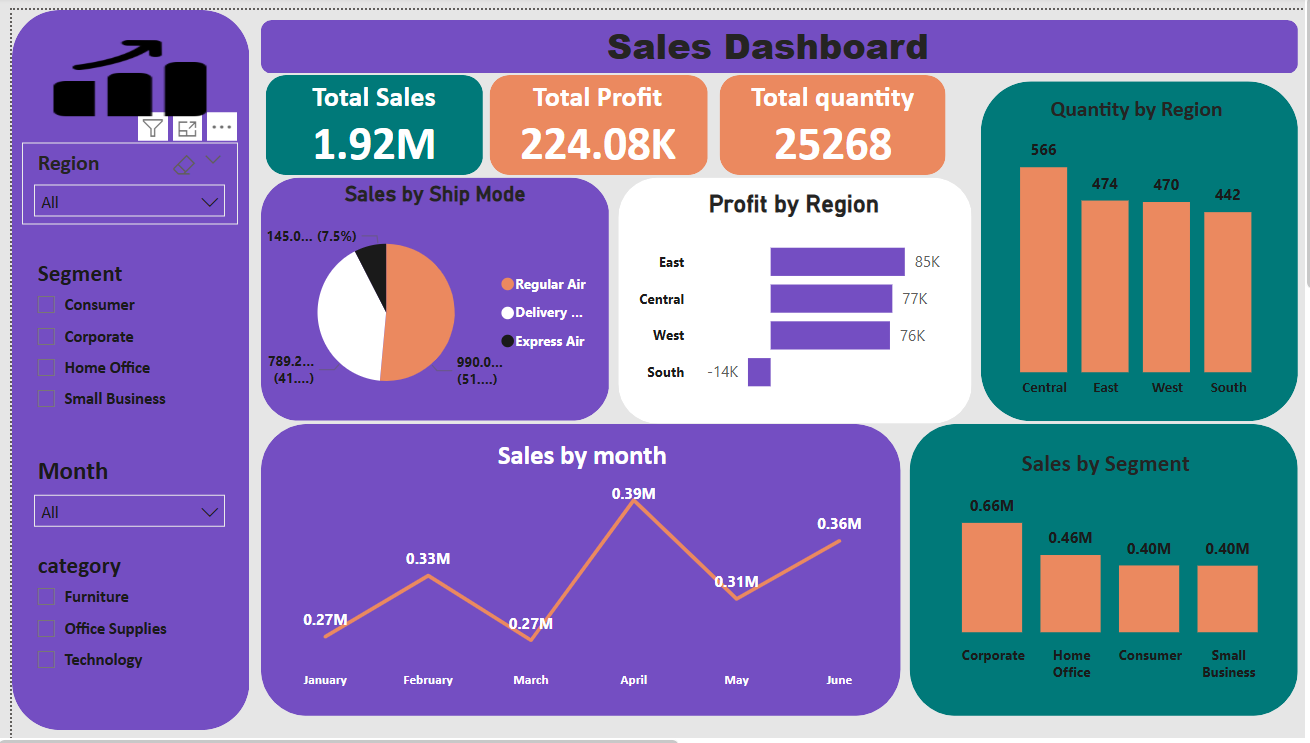

What the dashboard file says about the page in this screenshot:
{"tool":"powerbi","page":{"name":"Page 1","canvas":[2000,1500],"ordinal":0},"visuals":[{"type":"shape","box":[0,0,190,576],"z":0},{"type":"shape","box":[199,8,830,43],"z":1000},{"type":"shape","box":[199,331,512,234],"z":2000},{"type":"shape","box":[203,52,174,80],"z":3000},{"type":"shape","box":[199,134,279,195],"z":4000},{"type":"shape","box":[566,52,181,80],"z":5000},{"type":"shape","box":[382,52,175,80],"z":6000},{"type":"shape","box":[485,134,283,197],"z":7000},{"type":"shape","box":[775,57,254,272],"z":8000},{"type":"shape","box":[718,331,311,234],"z":9000},{"type":"card","title":"Total Sales","fields":{"Values":["Sum(orders.Sales)"]},"box":[213,55,154,71],"z":10000},{"type":"card","title":"Total Profit","fields":{"Values":["Sum(orders.Profit)"]},"box":[393,55,152,71],"z":11000},{"type":"card","title":"Total quantity","fields":{"Values":["Sum(orders.Quantity ordered new)"]},"box":[581,55,152,71],"z":12000},{"type":"lineChart","title":" Sales by month","fields":{"Y":["Sum(orders.Sales)"],"Category":["orders.Order Date.Variation.Date Hierarchy.Month"]},"box":[213,343,487,210],"z":13000},{"type":"columnChart","title":"Sales by Segment","fields":{"Y":["Sum(orders.Sales)"],"Category":["orders.Customer Segment"]},"box":[722,351,307,194],"z":14000},{"type":"pieChart","title":" Sales by Ship Mode","fields":{"Y":["Sum(orders.Sales)"],"Category":["orders.Ship Mode"]},"box":[203,137,272,191],"z":15000},{"type":"barChart","title":" Profit by Region","fields":{"Category":["orders.Region"],"Y":["Sum(orders.Profit)"]},"box":[495,144,262,175],"z":16000},{"type":"clusteredColumnChart","title":" Quantity by Region","fields":{"Category":["orders.Region"],"Y":["CountNonNull(orders.Quantity ordered new)"]},"box":[782,68,236,251],"z":17000},{"type":"slicer","fields":{"Values":["orders.Region"]},"box":[8,106,173,66],"z":18000},{"type":"slicer","fields":{"Values":["orders.Customer Segment"]},"box":[8,194,173,145],"z":19000},{"type":"slicer","fields":{"Values":["orders.Product Category"]},"box":[8,428,173,117],"z":20000},{"type":"slicer","fields":{"Values":["orders.Order Date.Variation.Date Hierarchy.Month"]},"box":[8,351,173,77],"z":21000},{"type":"textbox","title":"Sales Dashboard","box":[231,8,748,36],"z":21001},{"type":"image","box":[8,15,173,80],"z":21002}]}

Visuals, with their boxes on the page's 2000x1500 design canvas (x1, y1, x2, y2). These are canvas units, not pixel positions in the 1310x743 screenshot, which may show the page scaled, cropped or inside an application window:
shape: BBox(0, 0, 190, 576)
shape: BBox(199, 8, 1029, 51)
shape: BBox(199, 331, 711, 565)
shape: BBox(203, 52, 377, 132)
shape: BBox(199, 134, 478, 329)
shape: BBox(566, 52, 747, 132)
shape: BBox(382, 52, 557, 132)
shape: BBox(485, 134, 768, 331)
shape: BBox(775, 57, 1029, 329)
shape: BBox(718, 331, 1029, 565)
"Total Sales" card: BBox(213, 55, 367, 126)
"Total Profit" card: BBox(393, 55, 545, 126)
"Total quantity" card: BBox(581, 55, 733, 126)
" Sales by month" lineChart: BBox(213, 343, 700, 553)
"Sales by Segment" columnChart: BBox(722, 351, 1029, 545)
" Sales by Ship Mode" pieChart: BBox(203, 137, 475, 328)
" Profit by Region" barChart: BBox(495, 144, 757, 319)
" Quantity by Region" clusteredColumnChart: BBox(782, 68, 1018, 319)
slicer - orders.Region: BBox(8, 106, 181, 172)
slicer - orders.Customer Segment: BBox(8, 194, 181, 339)
slicer - orders.Product Category: BBox(8, 428, 181, 545)
slicer - orders.Order Date.Variation.Date Hierarchy.Month: BBox(8, 351, 181, 428)
"Sales Dashboard" textbox: BBox(231, 8, 979, 44)
image: BBox(8, 15, 181, 95)
